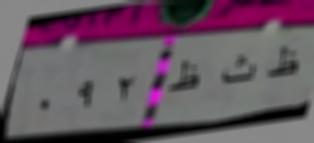0: (34, 92, 54, 118)
2: (112, 72, 140, 105)
9: (73, 75, 96, 115)
Thaa: (265, 40, 302, 85), (166, 59, 204, 95)
thaa: (220, 53, 258, 88)
